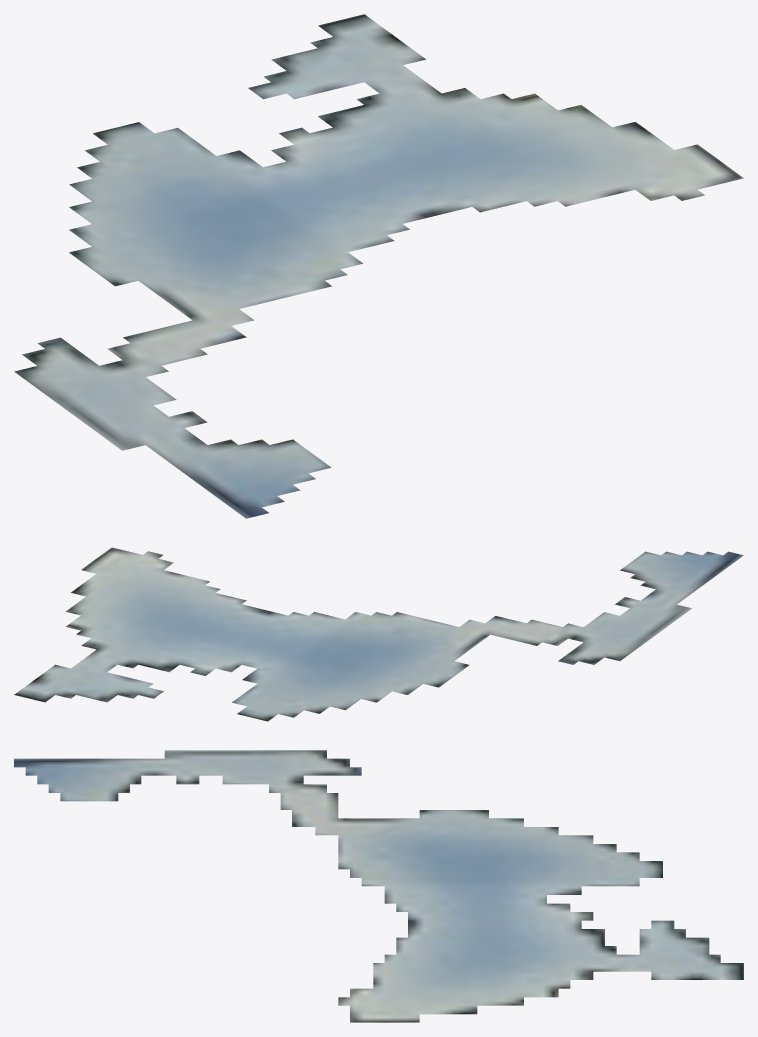
The model's file is northern-med-sea.gltf.
3 renders of one model, top to bottom at view 1: azimuth 30°, elevation 25°; view 2: azimuth 150°, elevation 25°; view 3: azimuth 270°, elevation 25°, orthographic. The views are drawn at different scales.
Parts seen in each view (by area): view 1: Plane; view 2: Plane; view 3: Plane.
Part boxes in pixels (box(x1,y1,x2,y2)): Plane: box(14, 14, 743, 518); Plane: box(14, 547, 743, 721); Plane: box(14, 750, 743, 1022).
Size of the model in its own units: 0.3159 by 0 by 0.3578.
1 material, 1 textured.
